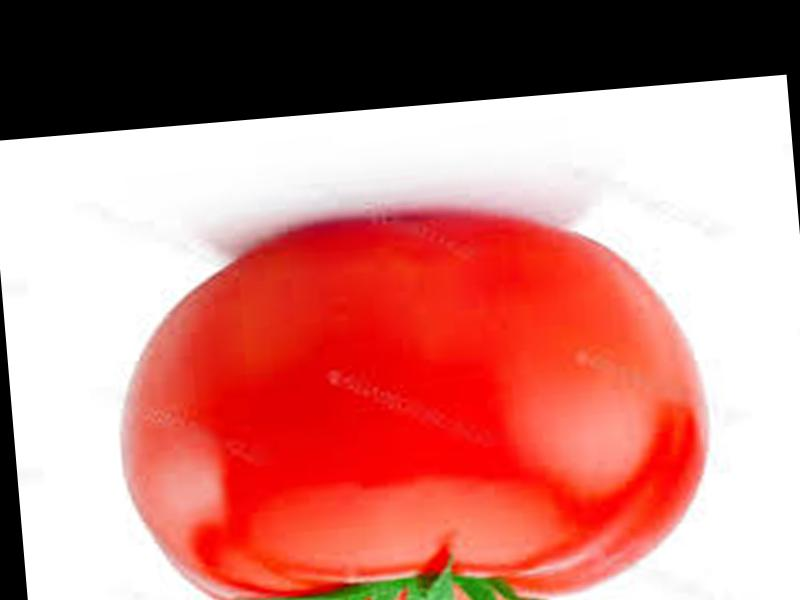Tomato: (104, 203, 722, 600)
